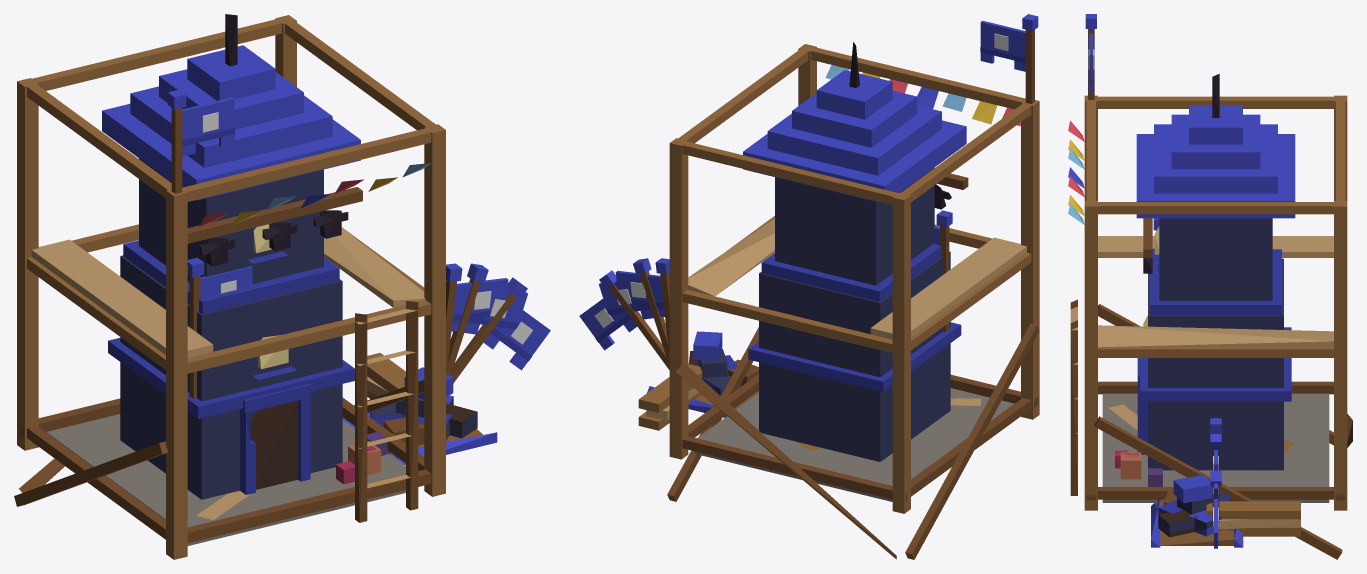
File: bat-home.glb
3 renders of one model, left to right at view 1: azimuth 30°, elevation 25°; view 2: azimuth 150°, elevation 25°; view 3: azimuth 270°, elevation 25°, orthographic. The views are drawn at different scales.
Parts seen in each view (by area): view 1: scaffold-mesh, built-mesh, dismantle-25-mesh, dismantle-75-mesh, scaffold-banner, dismantle-25-banner, dismantle-75-banner, dismantle-50-banner, dismantle-50-mesh, scaffold-flag-pole, dismantle-25-flag-pole, dismantle-50-flag-pole (+3 smaller); view 2: scaffold-mesh, built-mesh, dismantle-25-mesh, dismantle-75-mesh, scaffold-banner, dismantle-25-banner, dismantle-75-banner, dismantle-50-banner, dismantle-25-flag-pole, scaffold-flag-pole, dismantle-50-flag-pole, flag-pole (+1 smaller); view 3: built-mesh, scaffold-mesh, dismantle-25-mesh, dismantle-75-mesh, dismantle-50-mesh, scaffold-flag-pole.
Boxes of the visible parts, x1,y1,x2,y2 form: scaffold-mesh: [14, 15, 445, 559]; built-mesh: [46, 14, 405, 545]; dismantle-25-mesh: [47, 367, 497, 527]; dismantle-75-mesh: [108, 179, 497, 484]; scaffold-banner: [182, 97, 234, 156]; dismantle-25-banner: [483, 310, 550, 370]; dismantle-75-banner: [451, 278, 508, 331]; dismantle-50-banner: [464, 287, 527, 339]; dismantle-50-mesh: [241, 349, 497, 481]; scaffold-flag-pole: [167, 89, 186, 193]; dismantle-25-flag-pole: [450, 277, 527, 383]; dismantle-50-flag-pole: [446, 263, 488, 375]; scaffold-mesh: [638, 44, 1039, 559]; built-mesh: [695, 42, 1014, 501]; dismantle-25-mesh: [647, 331, 1013, 485]; dismantle-75-mesh: [690, 185, 960, 417]; scaffold-banner: [980, 20, 1025, 71]; dismantle-25-banner: [579, 292, 636, 350]; dismantle-75-banner: [615, 270, 664, 316]; dismantle-50-banner: [599, 278, 653, 323]; dismantle-25-flag-pole: [599, 270, 669, 369]; scaffold-flag-pole: [1022, 14, 1038, 103]; dismantle-50-flag-pole: [633, 258, 669, 366]; flag-pole: [936, 210, 952, 331]; built-mesh: [1102, 74, 1329, 502]; scaffold-mesh: [1068, 95, 1352, 559]; dismantle-25-mesh: [1102, 393, 1329, 543]; dismantle-75-mesh: [1115, 249, 1291, 545]; dismantle-50-mesh: [1117, 404, 1243, 547]; scaffold-flag-pole: [1085, 14, 1096, 99].
Bounding box in the file's own units: 2.35 × 2.53 × 1.51.
